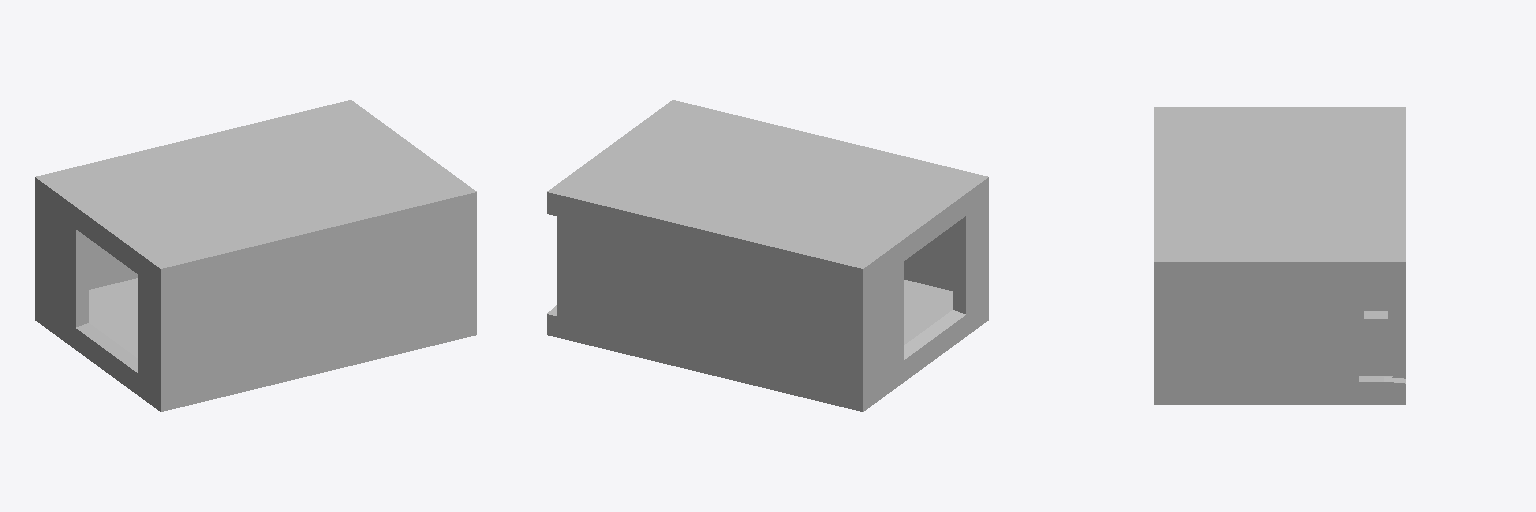
File: garage_rdc.obj
3 renders of one model, left to right at view 1: azimuth 30°, elevation 25°; view 2: azimuth 150°, elevation 25°; view 3: azimuth 270°, elevation 25°, orthographic.
Visible parts, largest first — view 1: Garage_RDC_Cube.038; view 2: Garage_RDC_Cube.038; view 3: Garage_RDC_Cube.038.
Part boxes in pixels (x1,y1,x2,y2): Garage_RDC_Cube.038: (35,100,476,411); Garage_RDC_Cube.038: (547,100,988,411); Garage_RDC_Cube.038: (1154,107,1405,404).
Bounding box in the file's own units: 7.17 × 3.1 × 4.95.